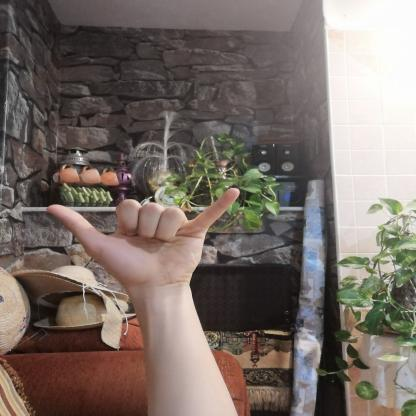YA: (29, 181, 261, 310)
